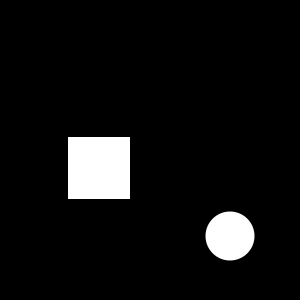circle: (68, 137, 130, 199)
rectangle: (206, 212, 255, 260)
